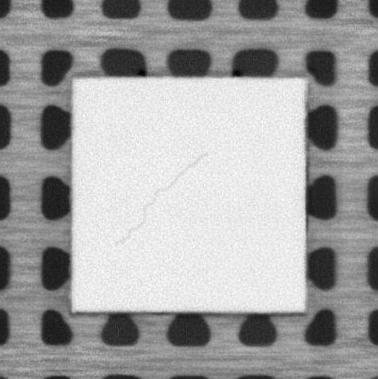DIE_CRACK: (116, 150, 212, 253)
